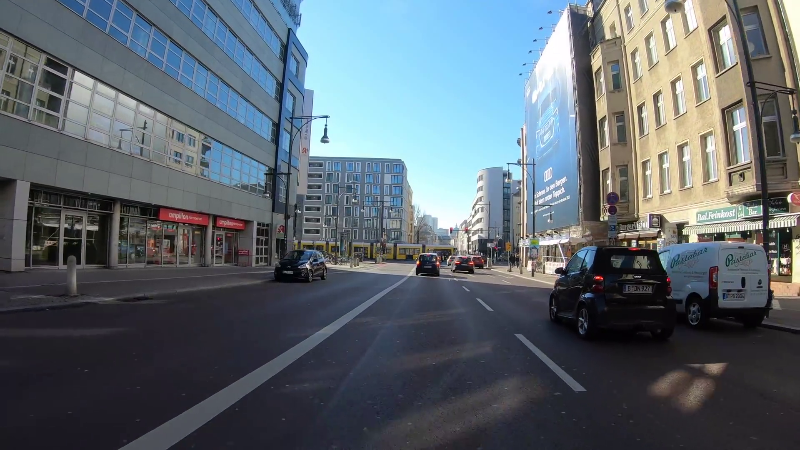Plate: (619, 282, 653, 295), (721, 291, 745, 299), (280, 268, 295, 275), (422, 264, 433, 268)
